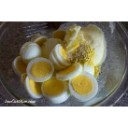begg: (70, 73, 99, 101), (27, 59, 53, 82)
